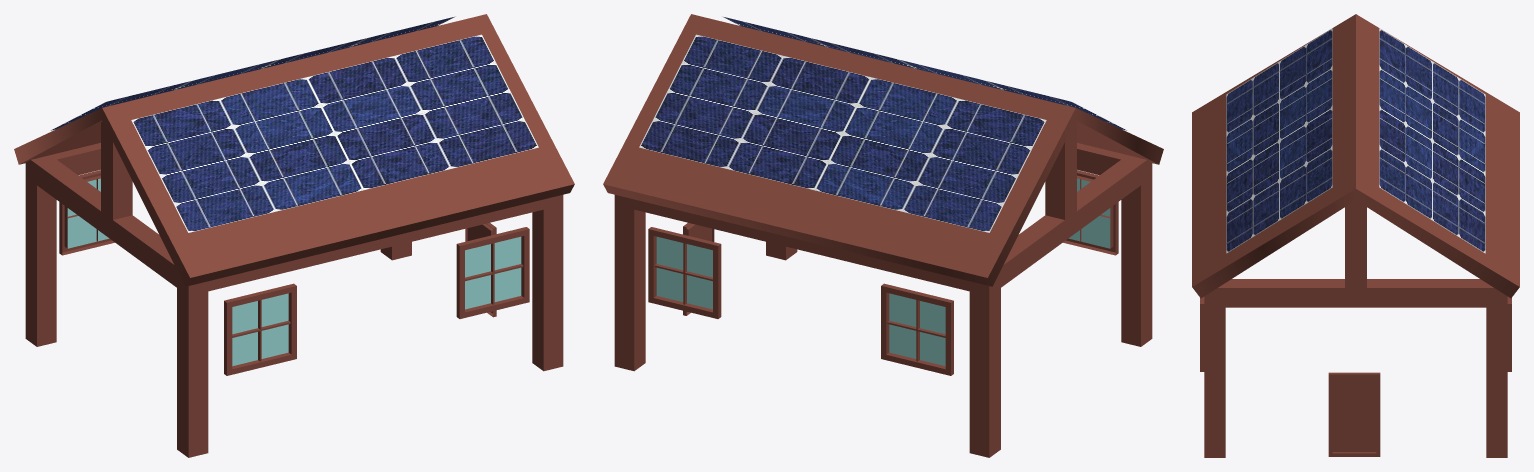
The model's file is House_New2.fbx.
3 views of the same model, side by side, from view 1: azimuth 30°, elevation 25°; view 2: azimuth 150°, elevation 25°; view 3: azimuth 270°, elevation 25° (orthographic). The views are drawn at different scales.
Parts seen in each view (by area): view 1: Plane.003, Wohnhaus5.004, Cube.004, Plane.004; view 2: Plane.003, Wohnhaus5.004, Cube.004, Plane.004; view 3: Plane.003, Wohnhaus5.004, Cube.004, Plane.001, Plane.004.
Part boxes in pixels (<box>): Plane.003: <box>50,16,538,232</box>; Wohnhaus5.004: <box>14,14,574,286</box>; Cube.004: <box>25,121,563,457</box>; Plane.004: <box>59,170,529,375</box>; Plane.003: <box>639,16,1127,232</box>; Wohnhaus5.004: <box>603,14,1163,286</box>; Cube.004: <box>614,121,1152,457</box>; Plane.004: <box>648,170,1118,375</box>; Plane.003: <box>1226,28,1485,253</box>; Wohnhaus5.004: <box>1192,14,1519,298</box>; Cube.004: <box>1204,200,1507,457</box>; Plane.001: <box>1328,372,1380,456</box>; Plane.004: <box>1200,297,1511,371</box>.
Size of the model in its own units: 8.38 by 6.07 by 6.64.
